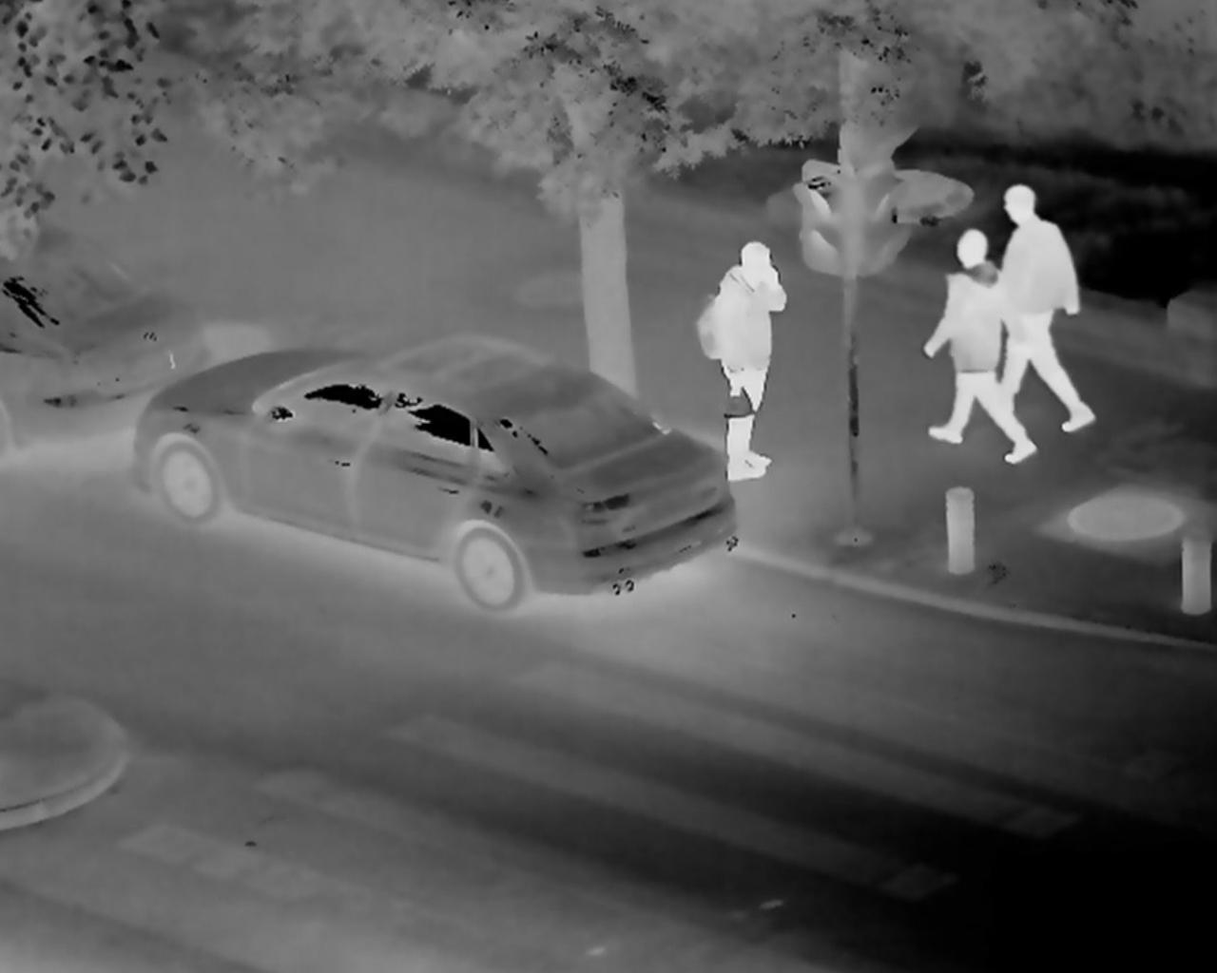person: (991, 180, 1099, 432), (696, 235, 791, 487), (929, 234, 1033, 460)
